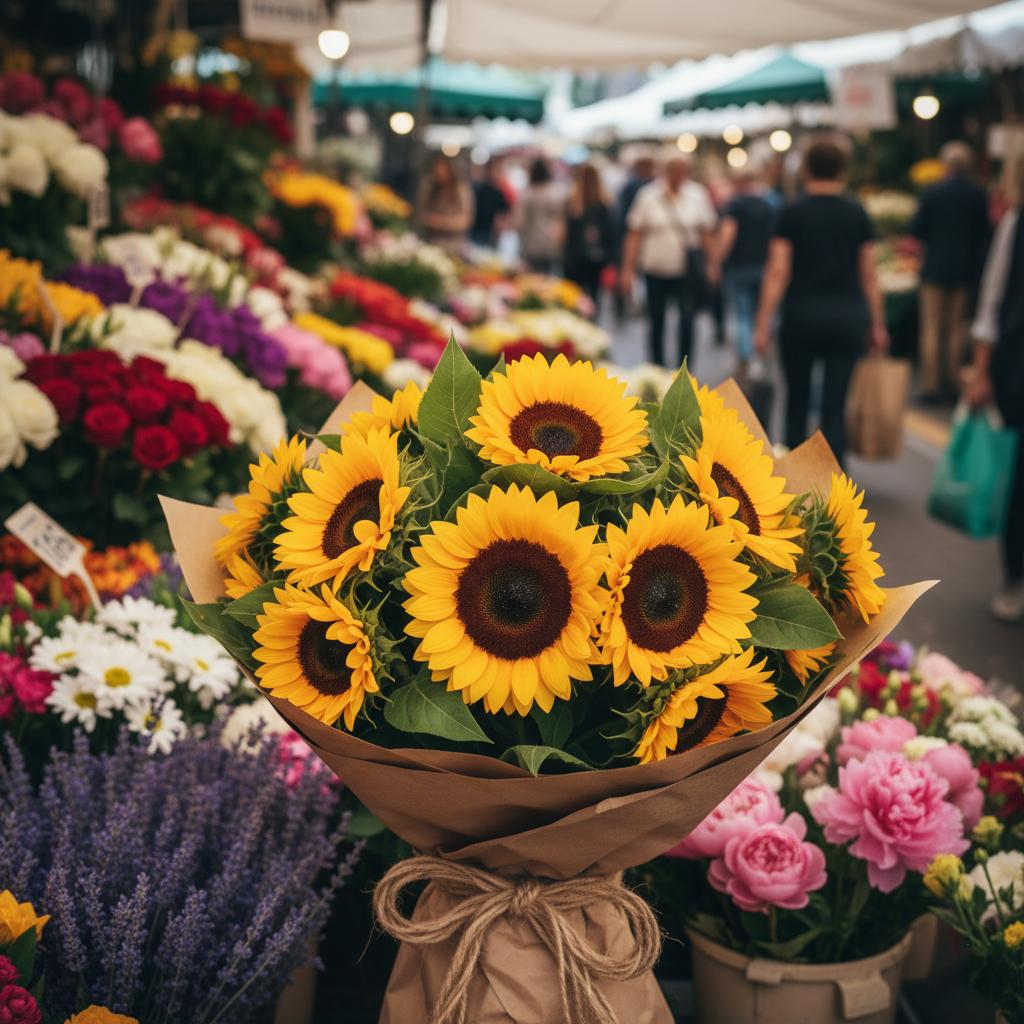sunflower: (216, 341, 887, 779)
